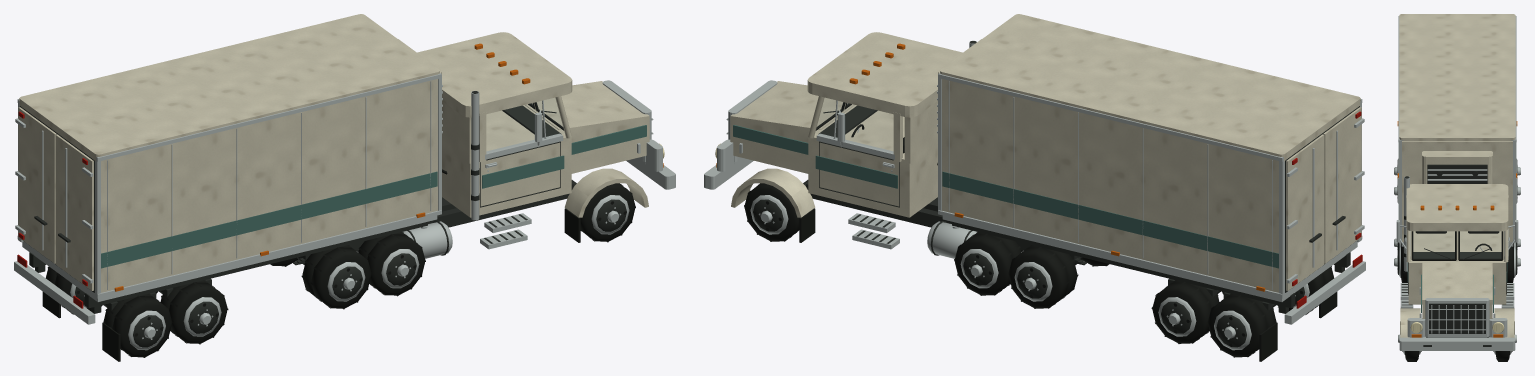
File: SM_Mesa_Truck_LOD1.fbx
3 renders of one model, left to right at view 1: azimuth 30°, elevation 25°; view 2: azimuth 150°, elevation 25°; view 3: azimuth 270°, elevation 25°, orthographic. The views are drawn at different scales.
Parts seen in each view (by area): view 1: SM_Mesa_Truck_LOD1; view 2: SM_Mesa_Truck_LOD1; view 3: SM_Mesa_Truck_LOD1.
Boxes of the visible parts, box(x1,y1,x2,y2) form: SM_Mesa_Truck_LOD1: box(14, 14, 675, 361); SM_Mesa_Truck_LOD1: box(704, 14, 1365, 361); SM_Mesa_Truck_LOD1: box(1394, 14, 1520, 361).
Size of the model in its own units: 10.93 by 2.77 by 3.85.
